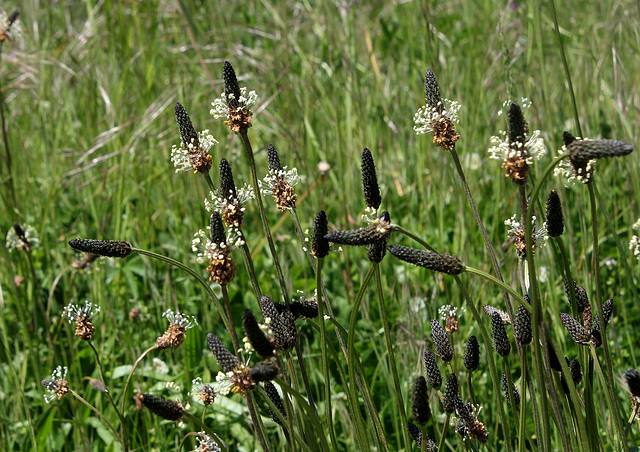buckhorn plantain: (77, 47, 594, 440)
